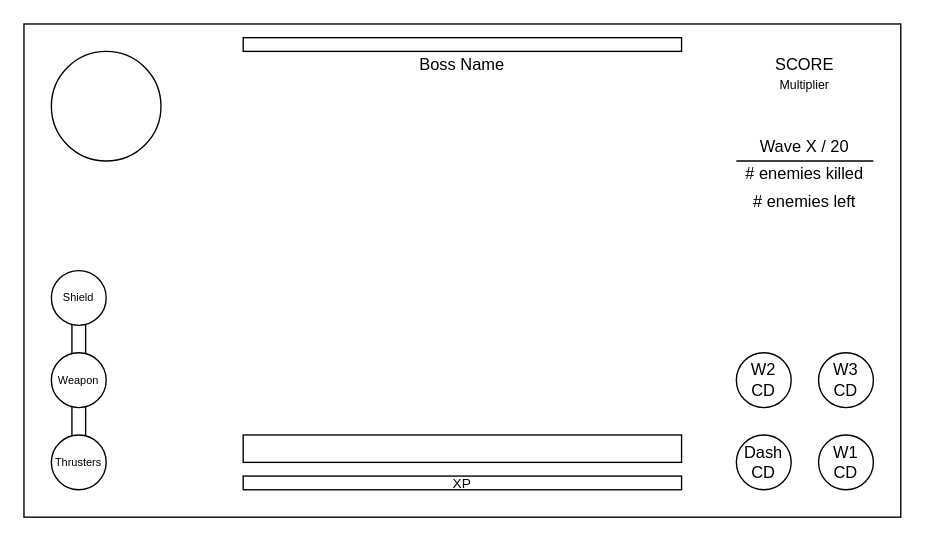
Image size: 925x541. Some labels were removed from this diagram. The box of each missing label's shape, as (x1, y1, x2, y2) in pixels:
HP: (242, 434, 682, 462)
Power Up: (50, 50, 161, 161)
